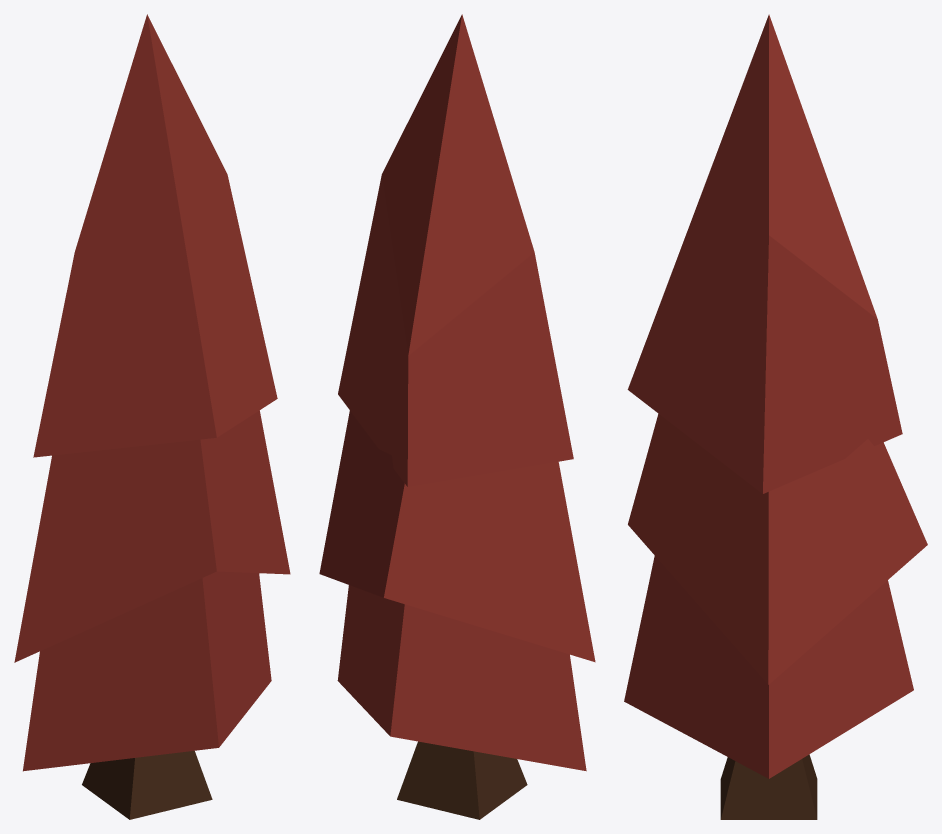
Rendered from Tree_53_Red.fbx.
The picture shows the model from 3 angles, left to right: view 1: azimuth 30°, elevation 25°; view 2: azimuth 150°, elevation 25°; view 3: azimuth 270°, elevation 25°; orthographic projection.
Parts seen in each view (by area): view 1: Tree_53_Red_Part_1, Tree_53_Red_Part_2; view 2: Tree_53_Red_Part_1, Tree_53_Red_Part_2; view 3: Tree_53_Red_Part_1, Tree_53_Red_Part_2.
Part boxes in pixels (bbox=[...]): Tree_53_Red_Part_1: bbox=[14, 14, 290, 771]; Tree_53_Red_Part_2: bbox=[82, 751, 212, 819]; Tree_53_Red_Part_1: bbox=[319, 14, 595, 771]; Tree_53_Red_Part_2: bbox=[397, 741, 527, 819]; Tree_53_Red_Part_1: bbox=[624, 14, 927, 778]; Tree_53_Red_Part_2: bbox=[720, 754, 817, 819].
Size of the model in its own units: 222 by 598 by 210.
